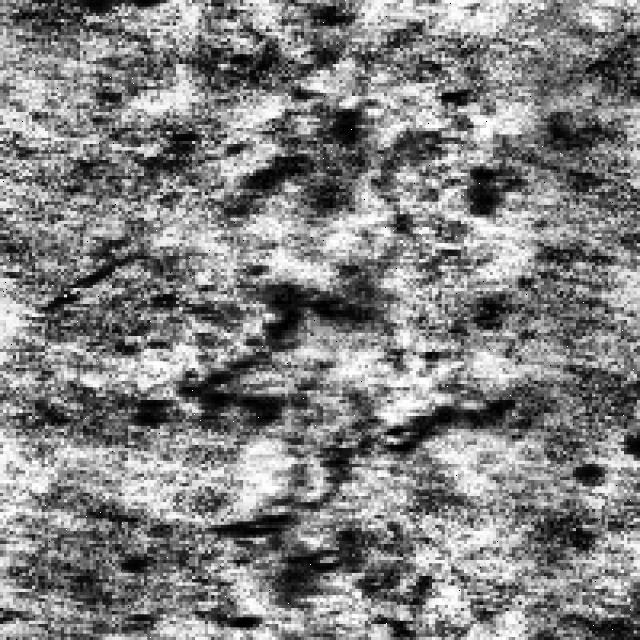Crazing: (138, 282, 492, 627), (137, 83, 518, 298)
